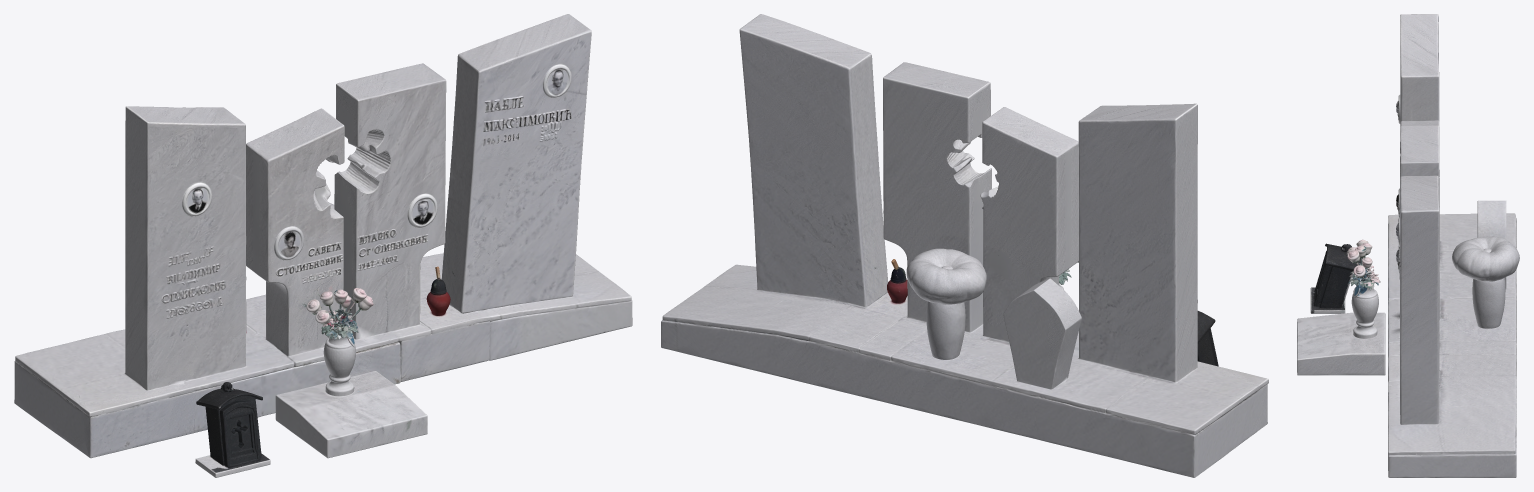
The model's file is vlajko-stojiljkovic.glb.
The picture shows the model from 3 angles, left to right: view 1: azimuth 30°, elevation 25°; view 2: azimuth 150°, elevation 25°; view 3: azimuth 270°, elevation 25°; orthographic projection. The views are drawn at different scales.
Bounding box in the file's own units: 1.9 × 1.07 × 0.7973.
1 material, 1 textured.
